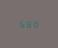eight: (25, 19, 30, 28)
six: (18, 19, 23, 27)
zero: (31, 20, 36, 28)
